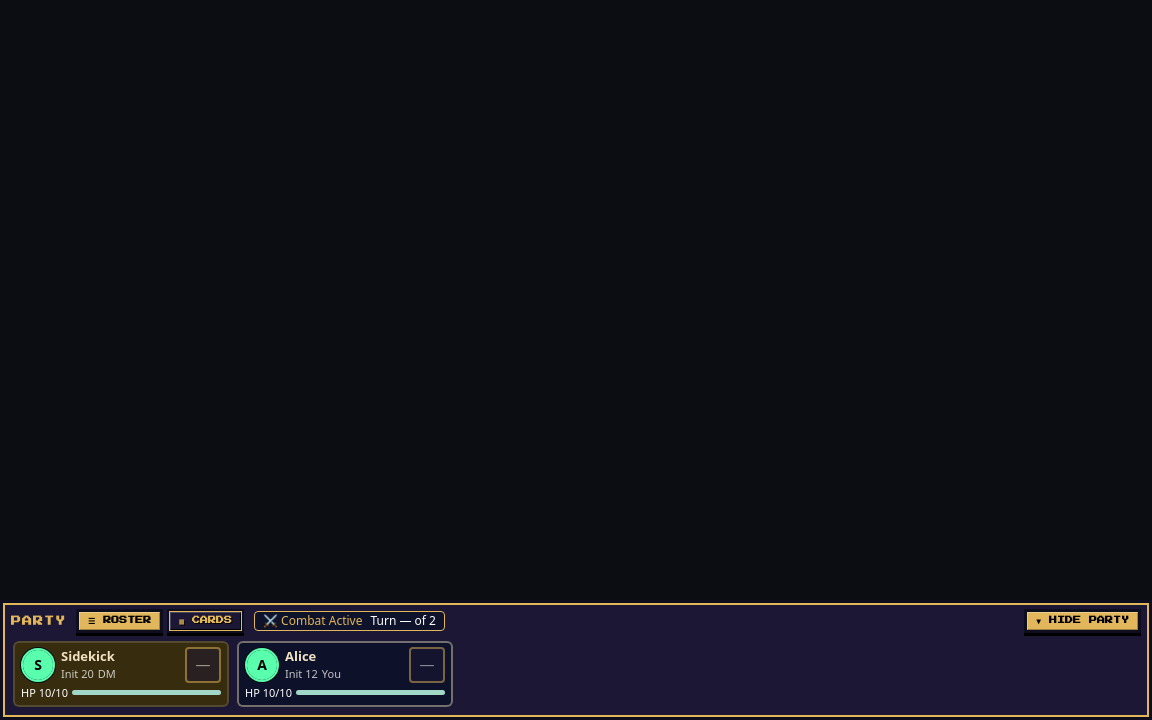
EntitiesPanel — the DM's own character: the bench and the order (F3) › a PLAYER sees the rolled DM character in the order too — wearing the DM face, carrying no DM-only control
This screenshot has width=1152, height=720.
Click the button "▦ Cards". click: {"x": 206, "y": 620}
box: [167,608,244,632]
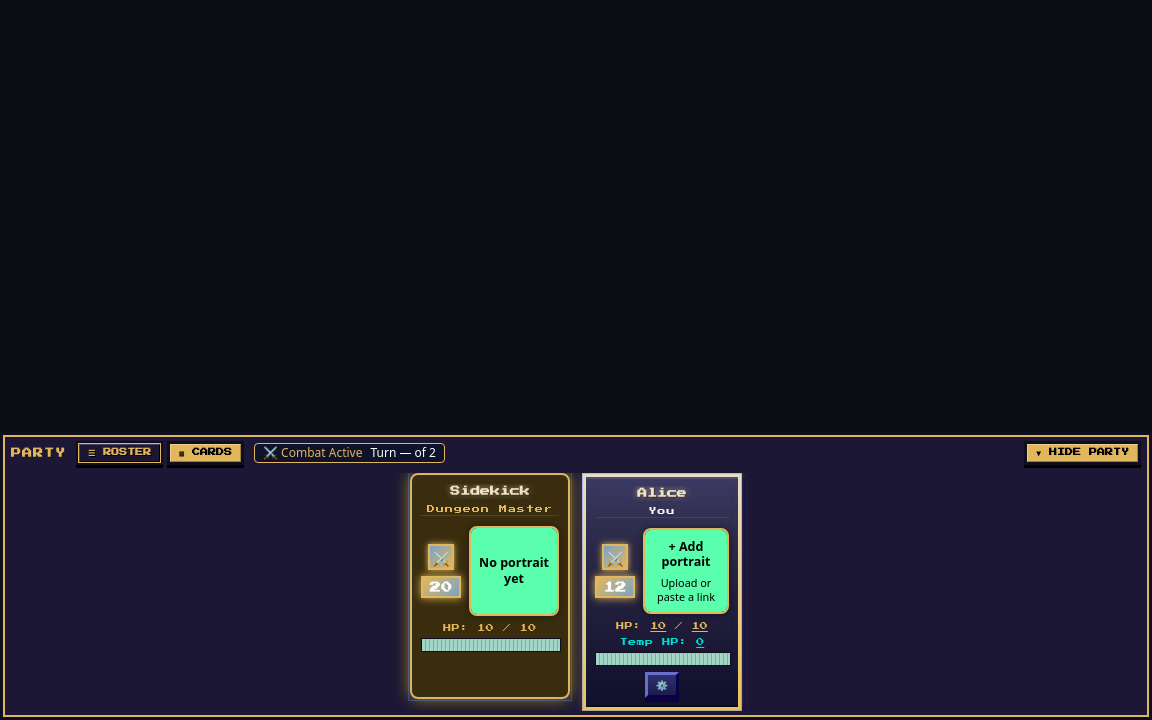
Result: the text "Sidekick" is shown at [450,486,530,496]
Result: the element showing "Sidekick Dungeon Master ⚔️ 20 No portrait yet HP: 10 / 10" is shown at [410,473,570,699]
Result: the button with aria-label "Portrait" is shown at [469,526,559,616]
